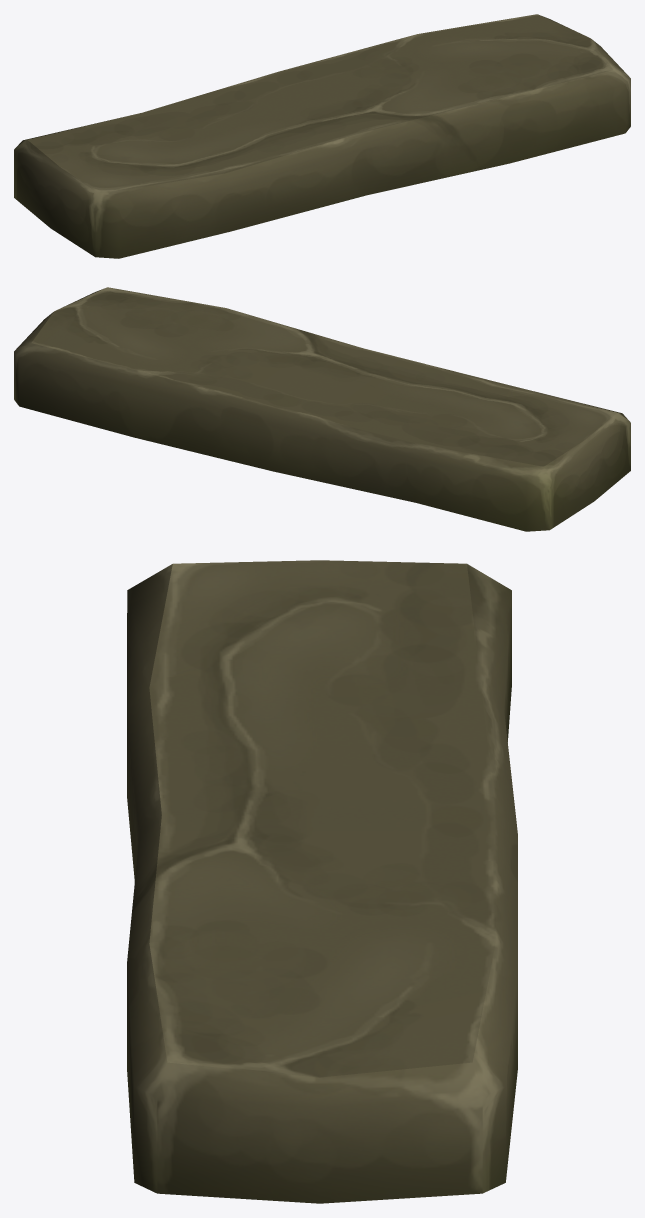
Rendered from Tile_5.FBX.
The picture shows the model from 3 angles, top to bottom: view 1: azimuth 30°, elevation 25°; view 2: azimuth 150°, elevation 25°; view 3: azimuth 270°, elevation 25°; orthographic projection. The views are drawn at different scales.
Parts seen in each view (by area): view 1: Tile_5; view 2: Tile_5; view 3: Tile_5.
Boxes of the visible parts, bbox=[...] form: Tile_5: bbox=[14, 14, 630, 258]; Tile_5: bbox=[14, 287, 630, 531]; Tile_5: bbox=[127, 560, 517, 1203].
Size of what is drawn, in the model's own units: 284 by 87.56 by 30.64.
